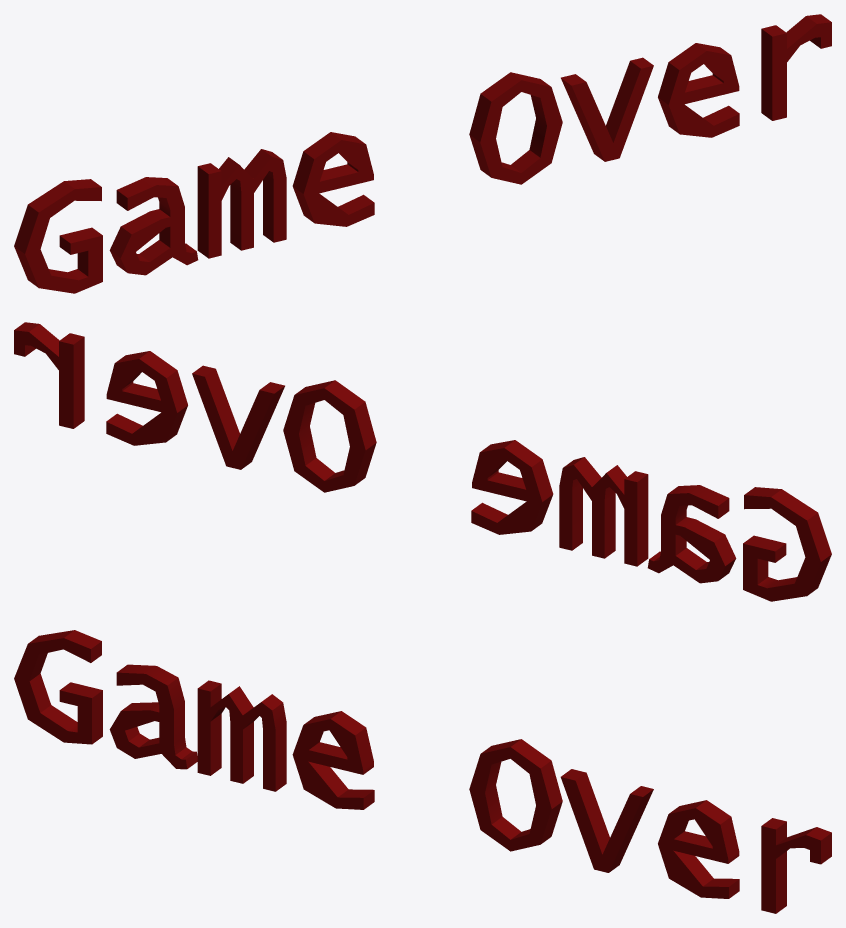
Rendered from over.fbx.
3 views of the same model, one above another, from view 1: azimuth 30°, elevation 25°; view 2: azimuth 150°, elevation 25°; view 3: azimuth 330°, elevation 25° (orthographic).
Visible parts, largest first — view 1: over_mdl; view 2: over_mdl; view 3: over_mdl.
Part boxes in pixels (<box>): over_mdl: <box>14,14,831,293</box>; over_mdl: <box>14,322,831,601</box>; over_mdl: <box>14,630,831,913</box>.
Size of the model in its own units: 321 by 39.77 by 7.57.
